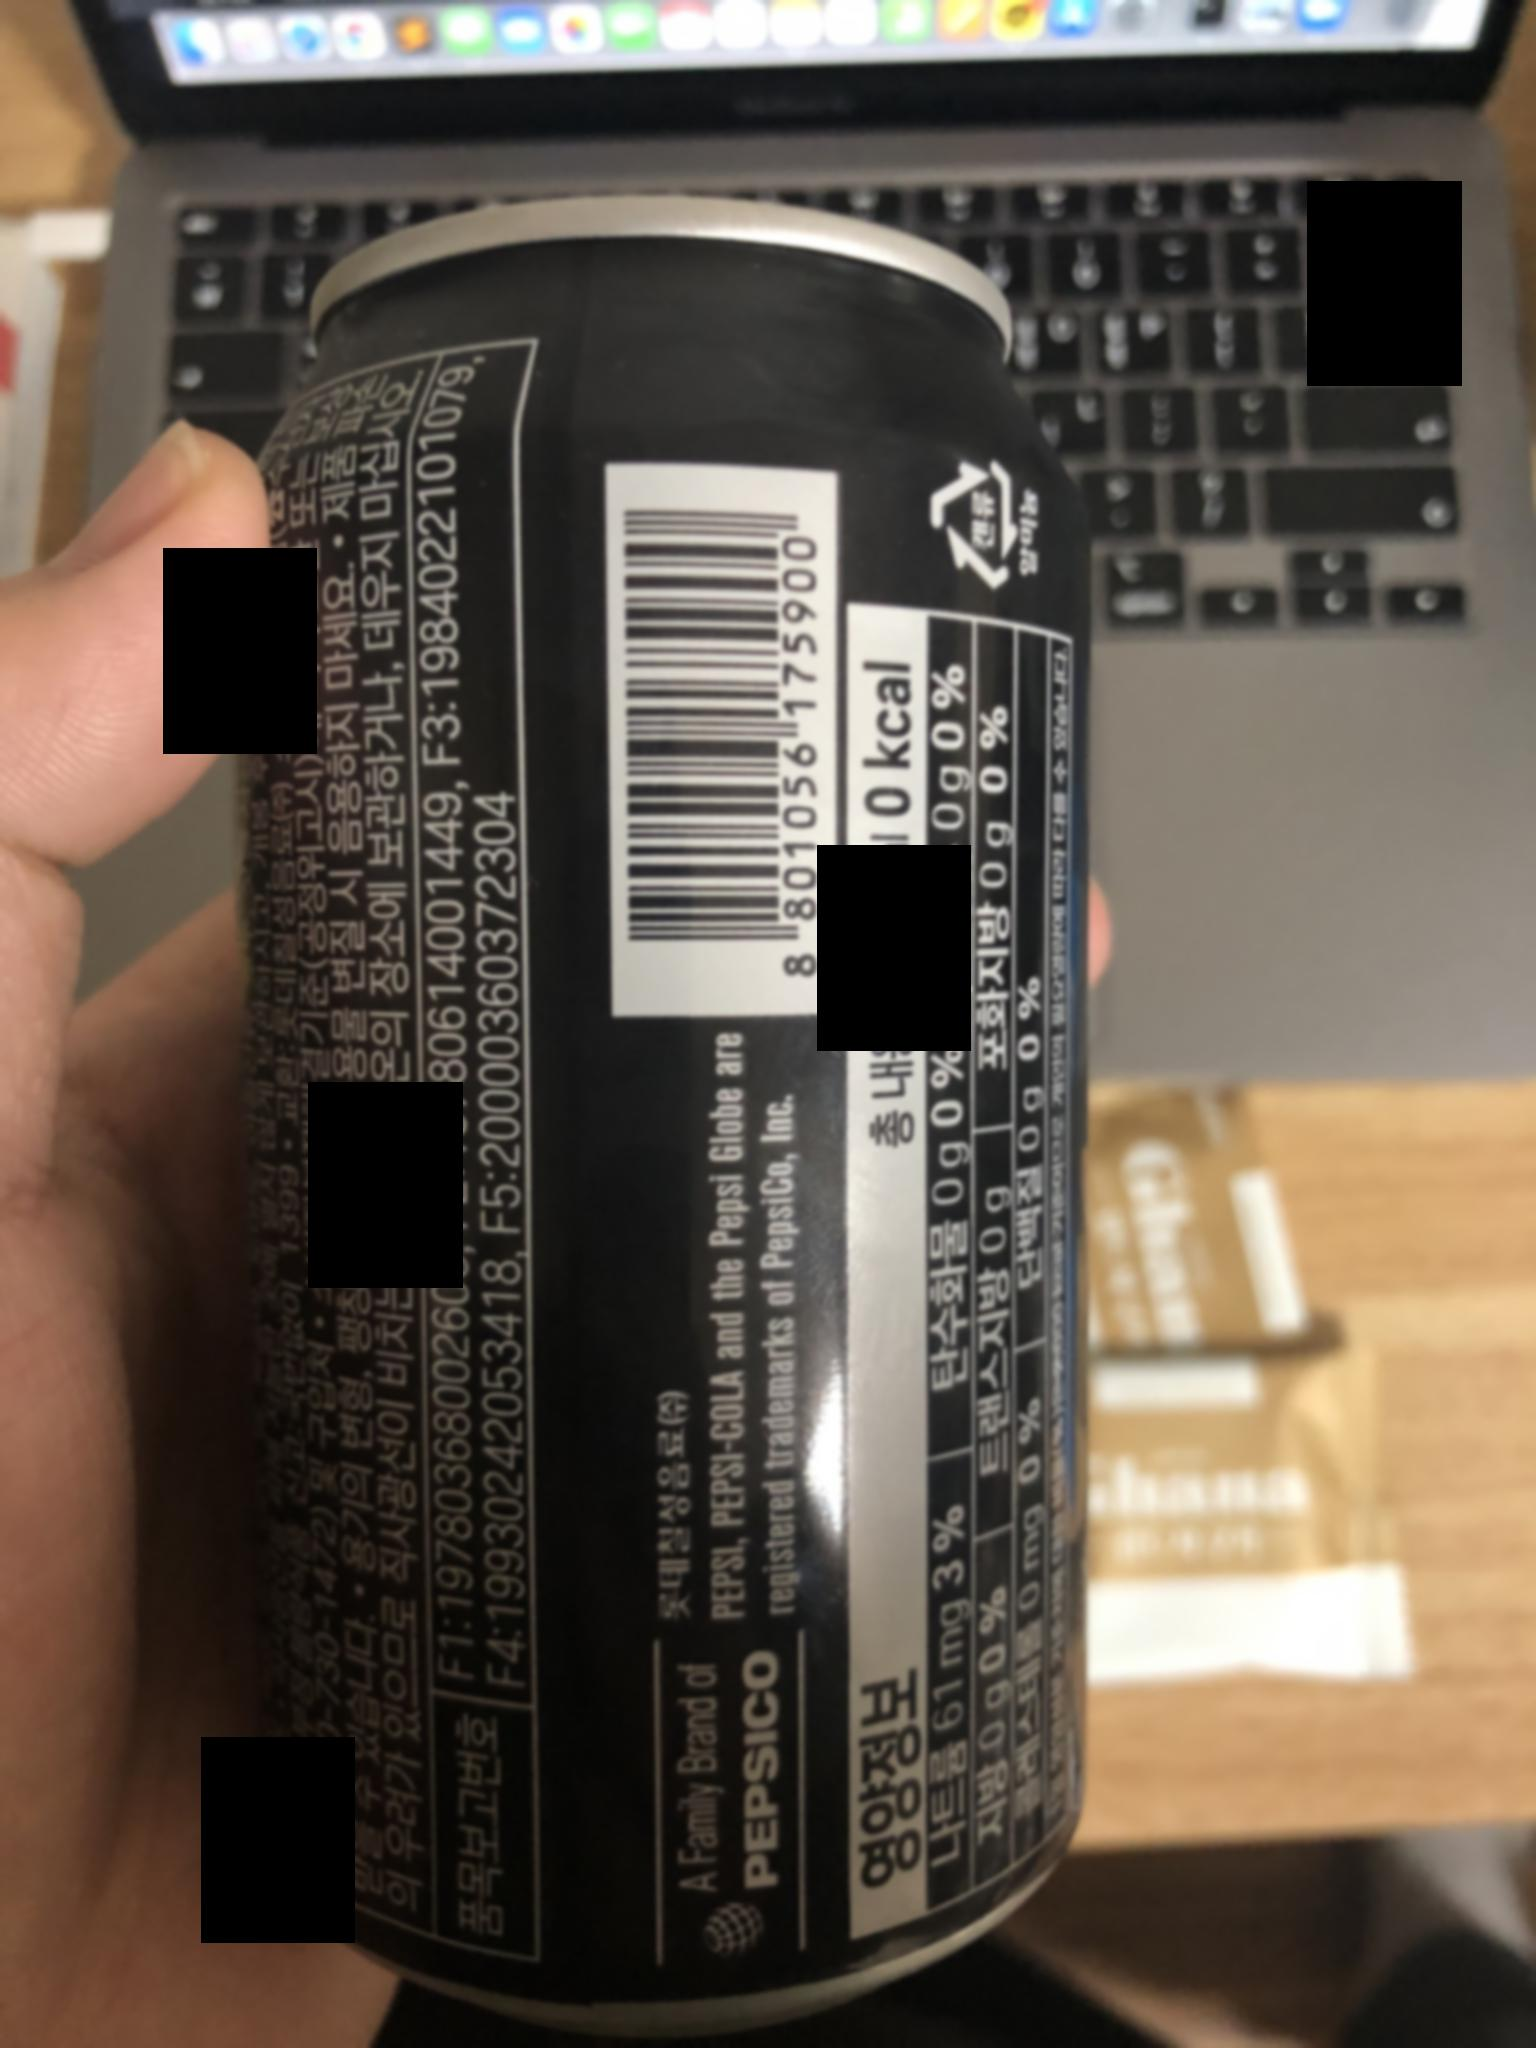pepsi_zero: (155, 198, 1099, 2017)
